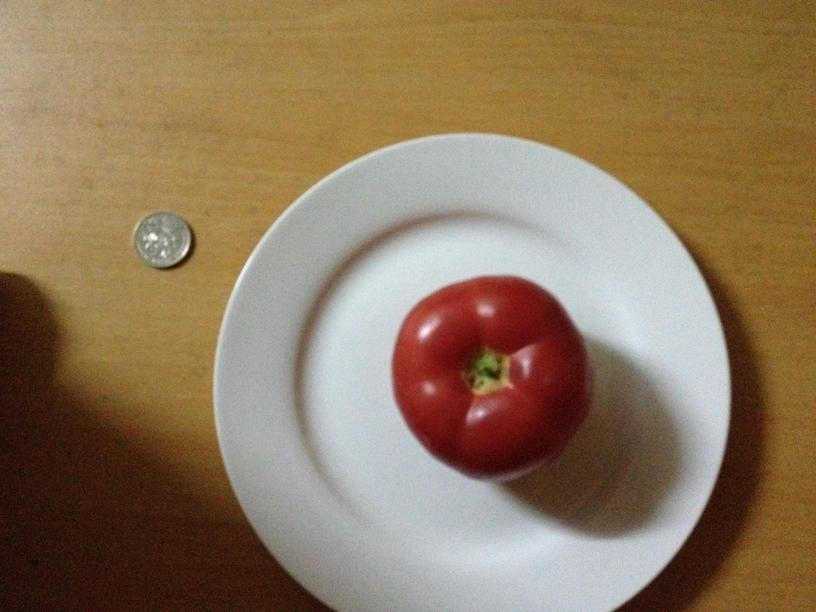coin: (126, 210, 195, 270)
tomato: (393, 273, 590, 478)
